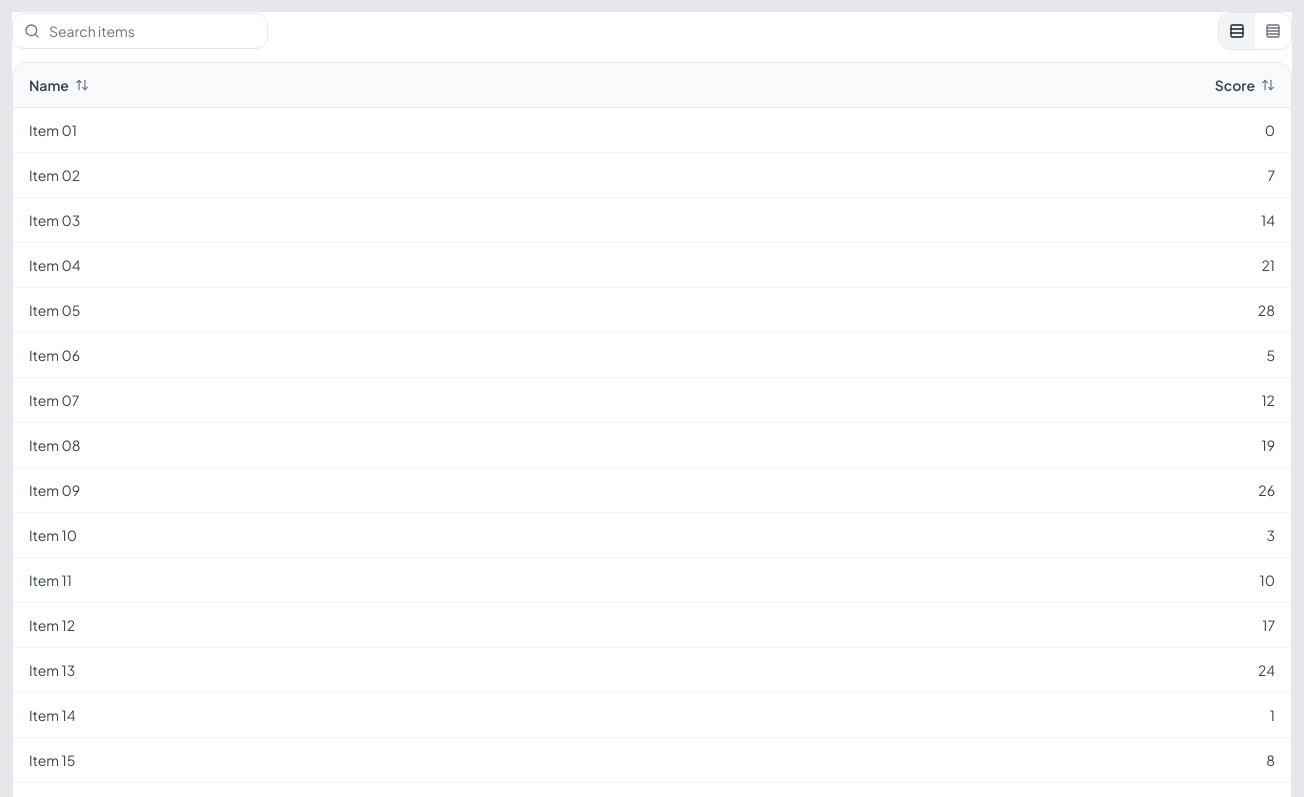
it: DataTable › sorts a column and tells screen readers the direction
Step 1. Click the button "Score" → (1245, 85), box [1215,75,1275,95]
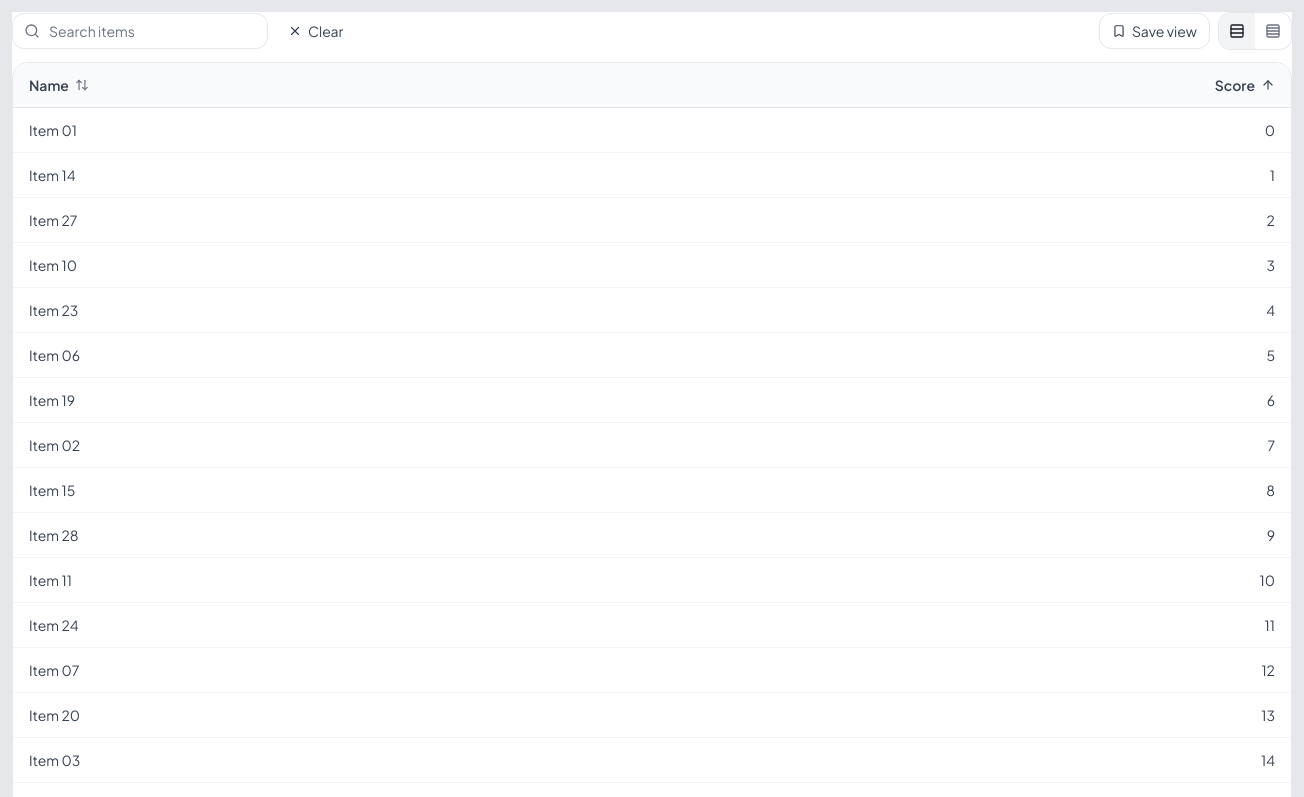
Result: the column heading "Score" has attribute aria-sort="ascending" at [650,63,1291,108]
Step 2. Click the button "Score" → (1245, 85), box [1215,75,1275,95]
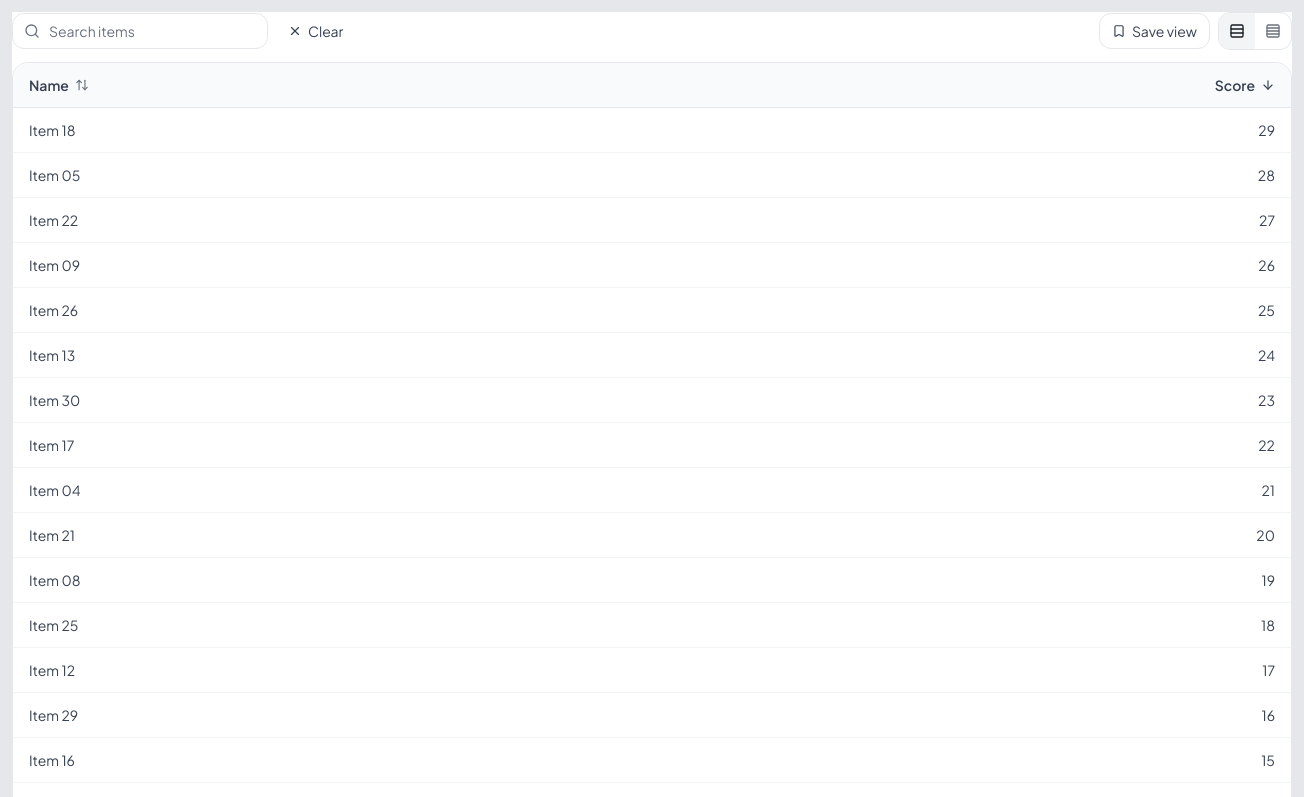
Result: the row "Item 18 29" is shown at [13,108,1291,152]
